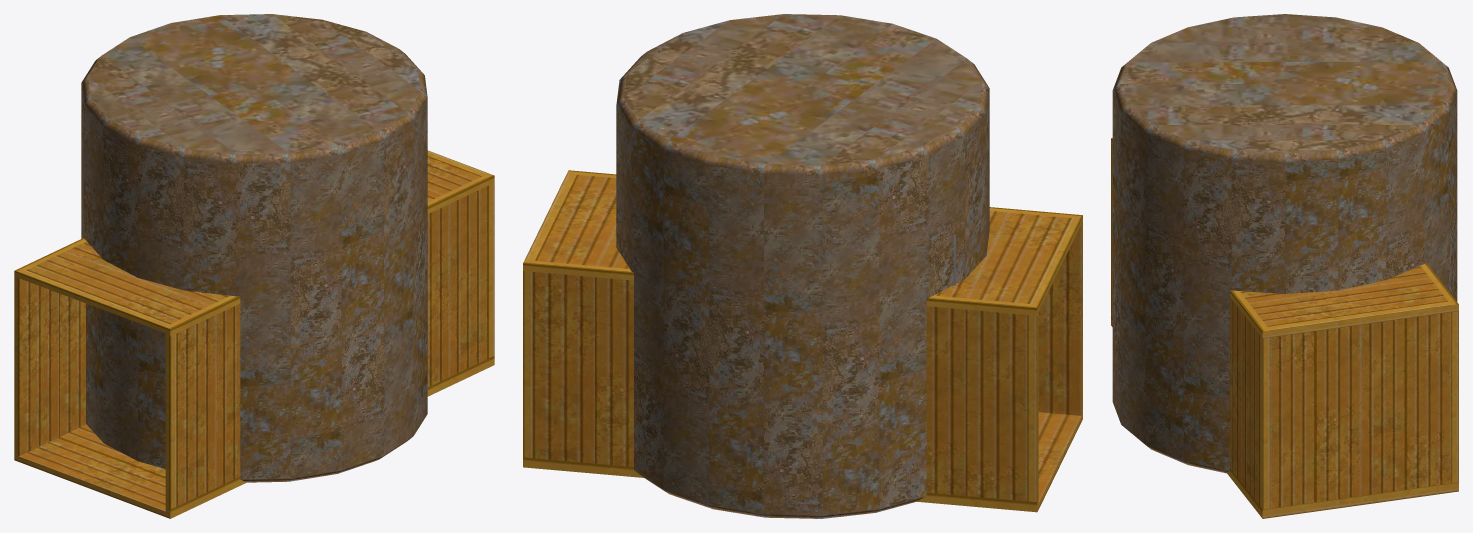
The model's file is kit.3fa3dad760.glb.
3 views of the same model, side by side, from view 1: azimuth 30°, elevation 25°; view 2: azimuth 150°, elevation 25°; view 3: azimuth 270°, elevation 25° (orthographic). The views are drawn at different scales.
Parts seen in each view (by area): view 1: gas_tank1, container; view 2: gas_tank1, container; view 3: gas_tank1, container.
Boxes of the visible parts, x1,y1,x2,y2 form: gas_tank1: [81, 14, 427, 482]; container: [14, 150, 494, 518]; gas_tank1: [616, 14, 989, 518]; container: [523, 170, 1082, 512]; gas_tank1: [1112, 14, 1457, 473]; container: [1111, 138, 1458, 518].
Bounding box in the file's own units: 3.04 × 2.08 × 2.02.
5 materials, 5 textured.
